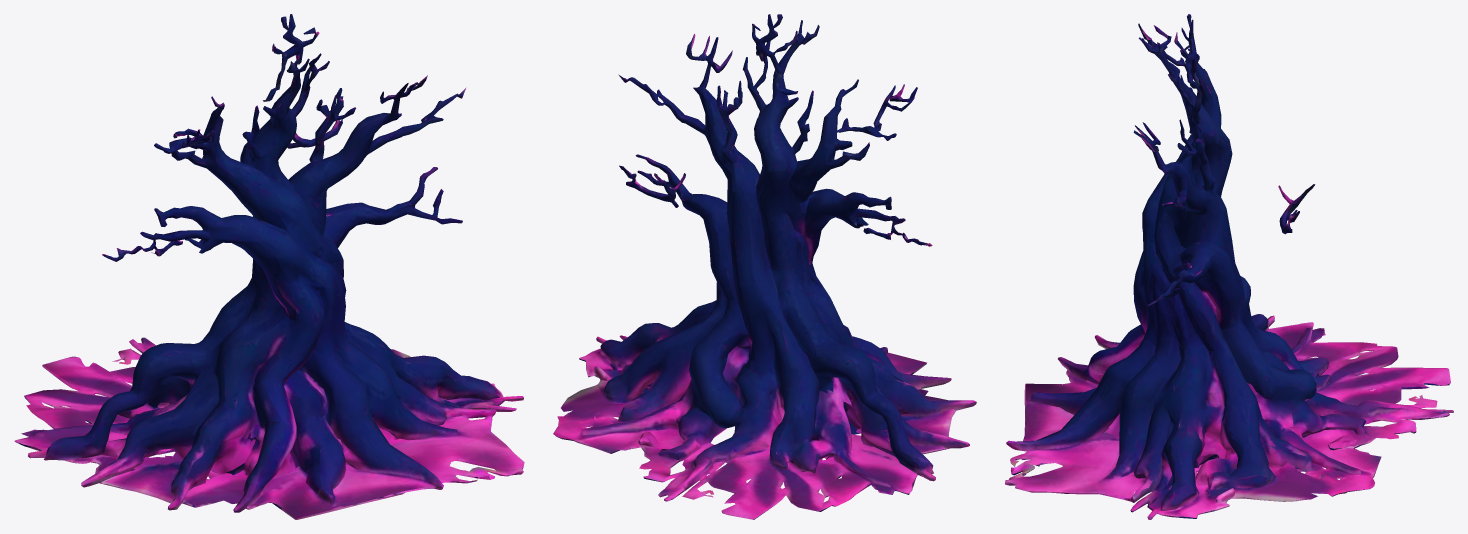
File: sea-root-south-generated-2026-05-17T19-31-34-603Z.low.glb
3 views of the same model, side by side, from view 1: azimuth 30°, elevation 25°; view 2: azimuth 150°, elevation 25°; view 3: azimuth 270°, elevation 25° (orthographic). The views are drawn at different scales.
Visible parts, largest first — view 1: temp_mesh.ply; view 2: temp_mesh.ply; view 3: temp_mesh.ply.
Part boxes in pixels (bbox=[...]): temp_mesh.ply: bbox=[14, 14, 524, 519]; temp_mesh.ply: bbox=[553, 14, 976, 519]; temp_mesh.ply: bbox=[1005, 14, 1453, 519].
Bounding box in the file's own units: 1.97 × 1.85 × 1.86.
Materials: 1 (1 with a texture image).
